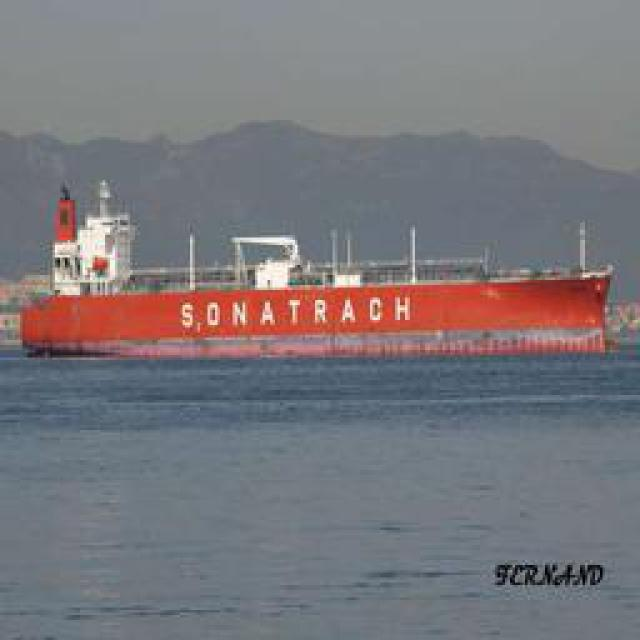Ship: (22, 211, 640, 356)
